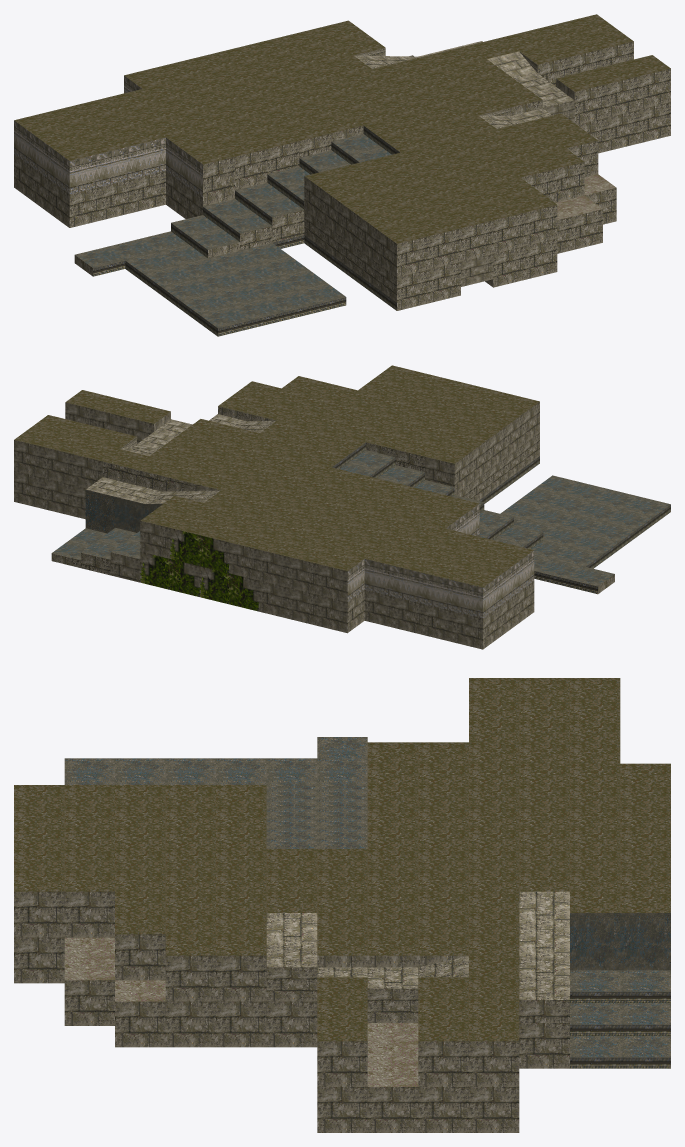
The model's file is room30.obj.
3 renders of one model, top to bottom at view 1: azimuth 30°, elevation 25°; view 2: azimuth 150°, elevation 25°; view 3: azimuth 270°, elevation 25°, orthographic. The views are drawn at different scales.
Visible parts, largest first — view 1: 01-Caves.030; view 2: 01-Caves.030; view 3: 01-Caves.030.
Part boxes in pixels (x1,y1,x2,y2): 01-Caves.030: (14,14,670,336); 01-Caves.030: (14,365,670,649); 01-Caves.030: (14,678,670,1132).
Bounding box in the file's own units: 180 × 20 × 130.
1 material, 1 textured.
